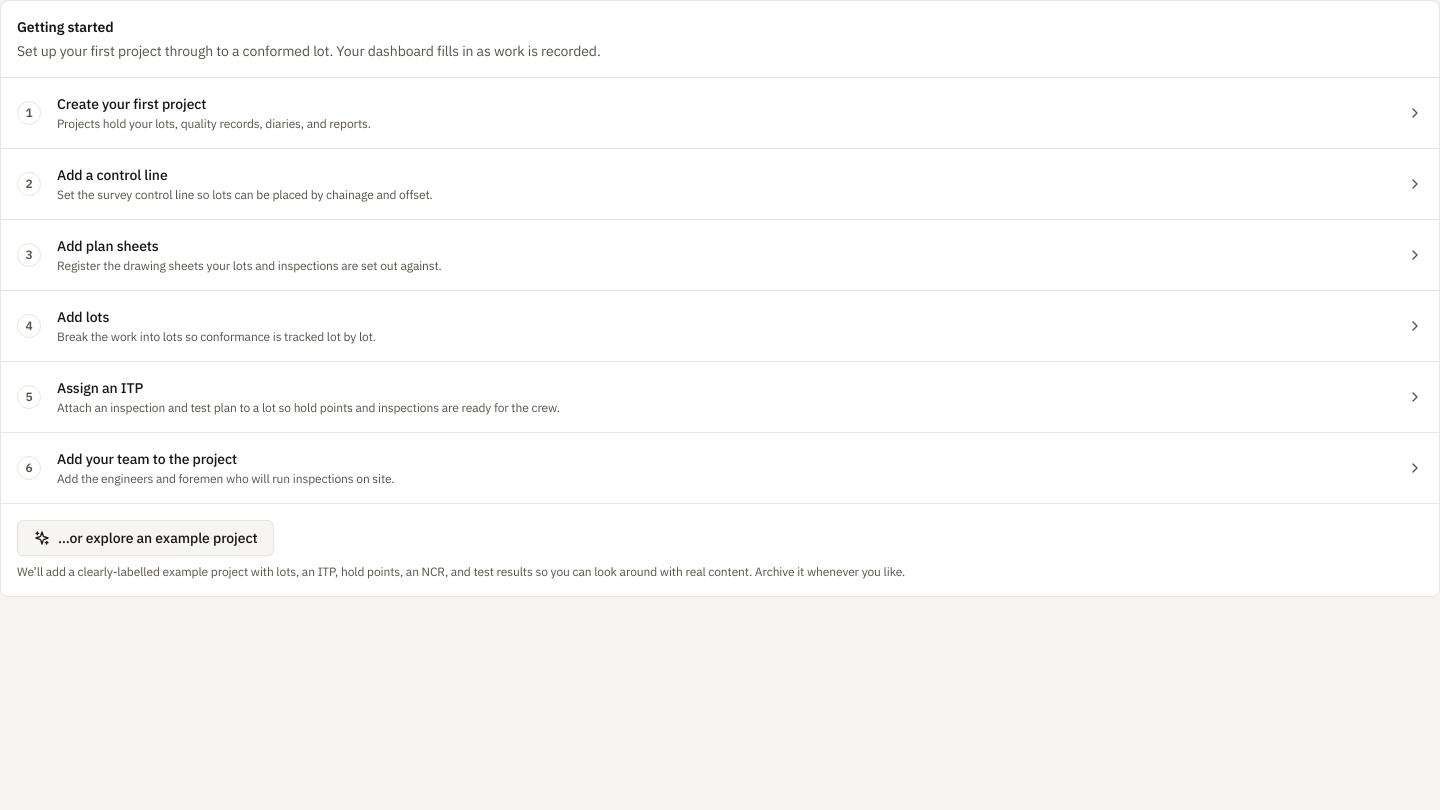
Test case: DashboardSetupChecklist example project action › surfaces an error and stays usable when seeding fails
Click the button "…or explore an example project": (146, 538) [17,520,274,556]
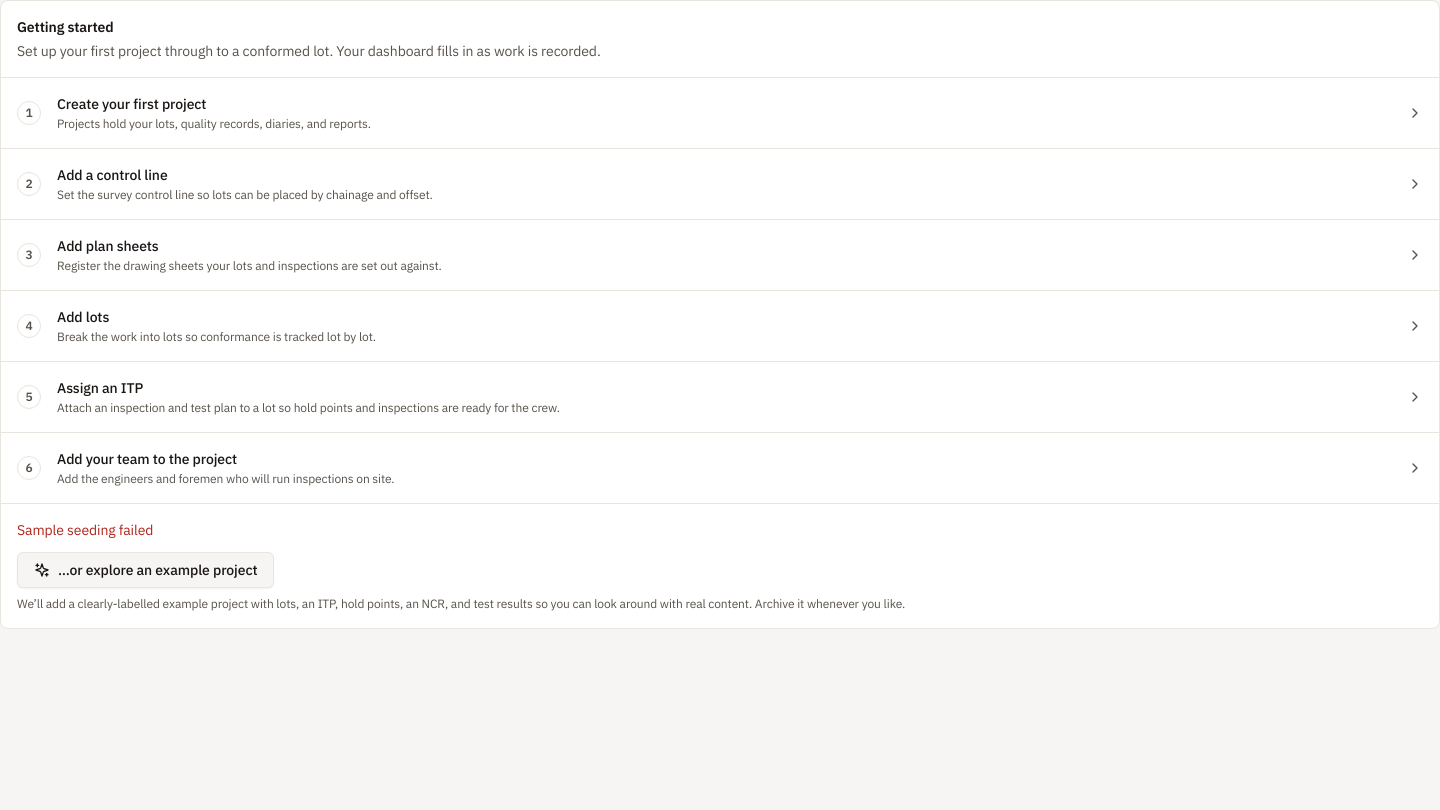
Expected: the button "…or explore an example project" is enabled, [17,552,274,588]
Expected: the message reads "Sample seeding failed", [17,521,153,539]
